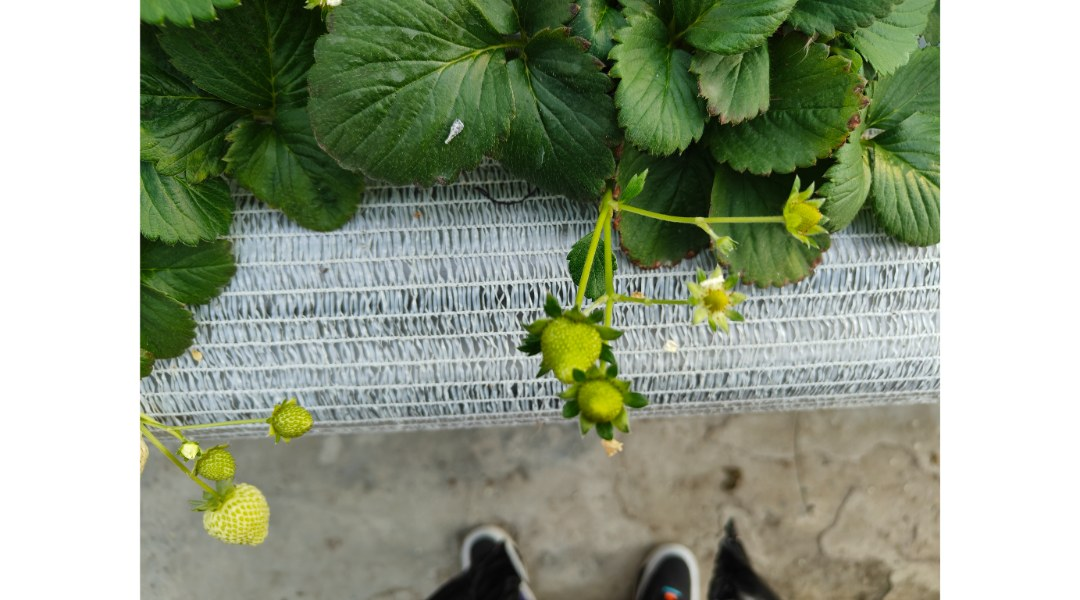berry: (514, 290, 617, 392), (571, 353, 647, 466), (184, 470, 270, 554), (775, 169, 846, 253), (678, 261, 740, 344), (260, 401, 342, 448), (198, 446, 236, 485), (711, 230, 744, 271), (173, 442, 217, 465)
strain: (628, 192, 792, 235), (601, 230, 631, 330), (573, 210, 599, 299), (179, 419, 279, 438)
